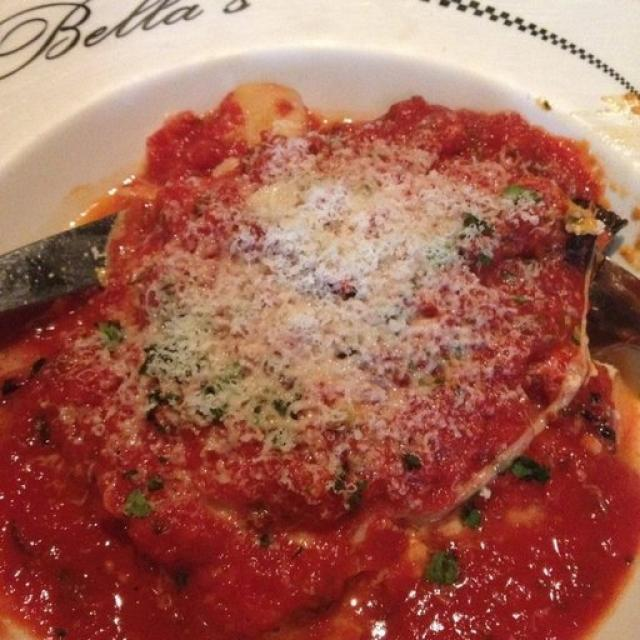Lasagna: (61, 116, 605, 610)
